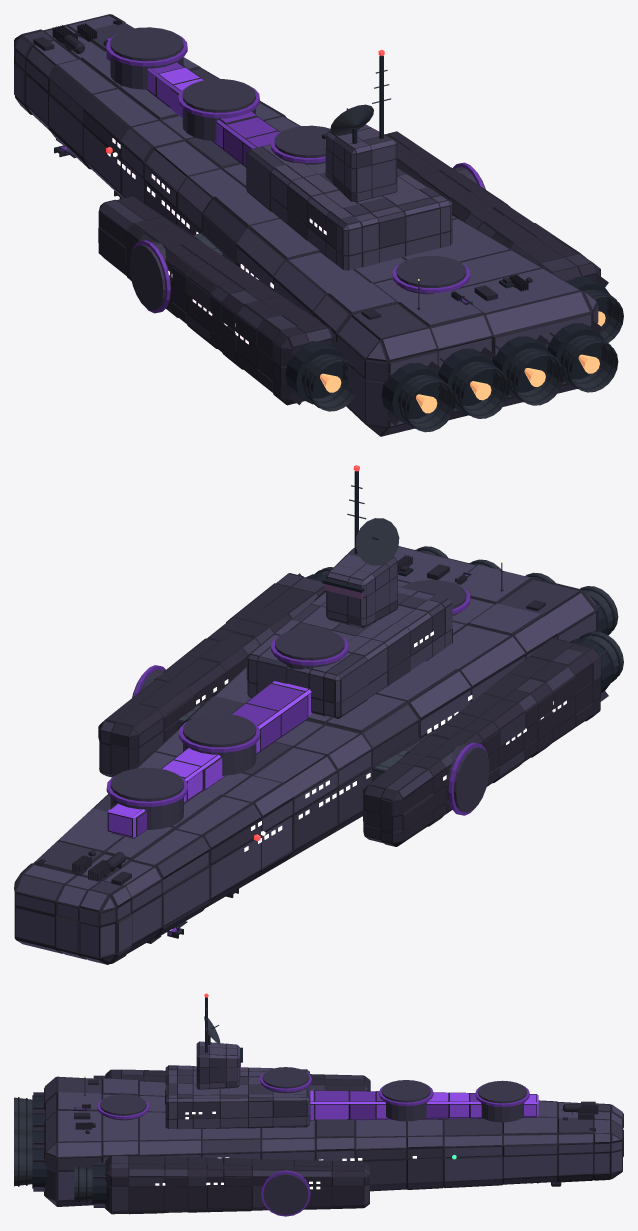
Rendered from titan.glb.
The picture shows the model from 3 angles, top to bottom: view 1: azimuth 30°, elevation 25°; view 2: azimuth 150°, elevation 25°; view 3: azimuth 270°, elevation 25°; orthographic projection. The views are drawn at different scales.
Visible parts, largest first — view 1: titan_mesh, radar_mesh; view 2: titan_mesh, radar_mesh; view 3: titan_mesh.
Boxes of the visible parts, x1,y1,x2,y2 form: titan_mesh: (14,14,623,436); radar_mesh: (330,104,373,143); titan_mesh: (14,471,623,964); radar_mesh: (355,518,399,565); titan_mesh: (14,997,623,1216).
Bounding box in the file's own units: 20.87 × 17.43 × 50.68.
